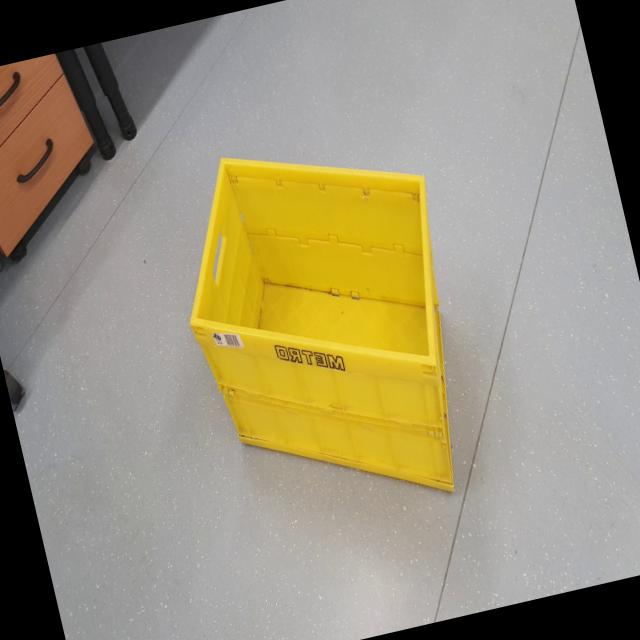box: (130, 82, 517, 549)
